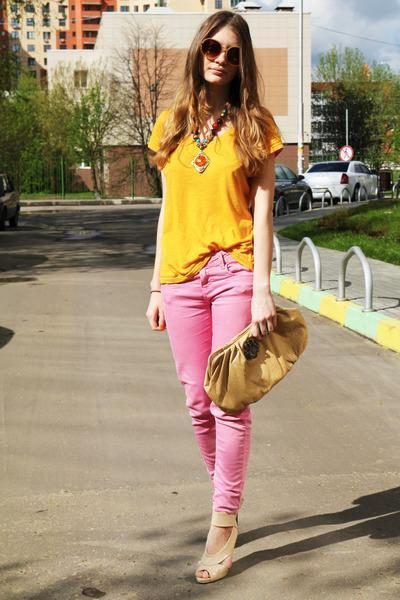bag: (196, 307, 306, 407)
pants: (166, 252, 264, 515)
shirt: (159, 125, 282, 284)
shoe: (196, 516, 251, 580)
sunglass: (204, 39, 229, 71)
